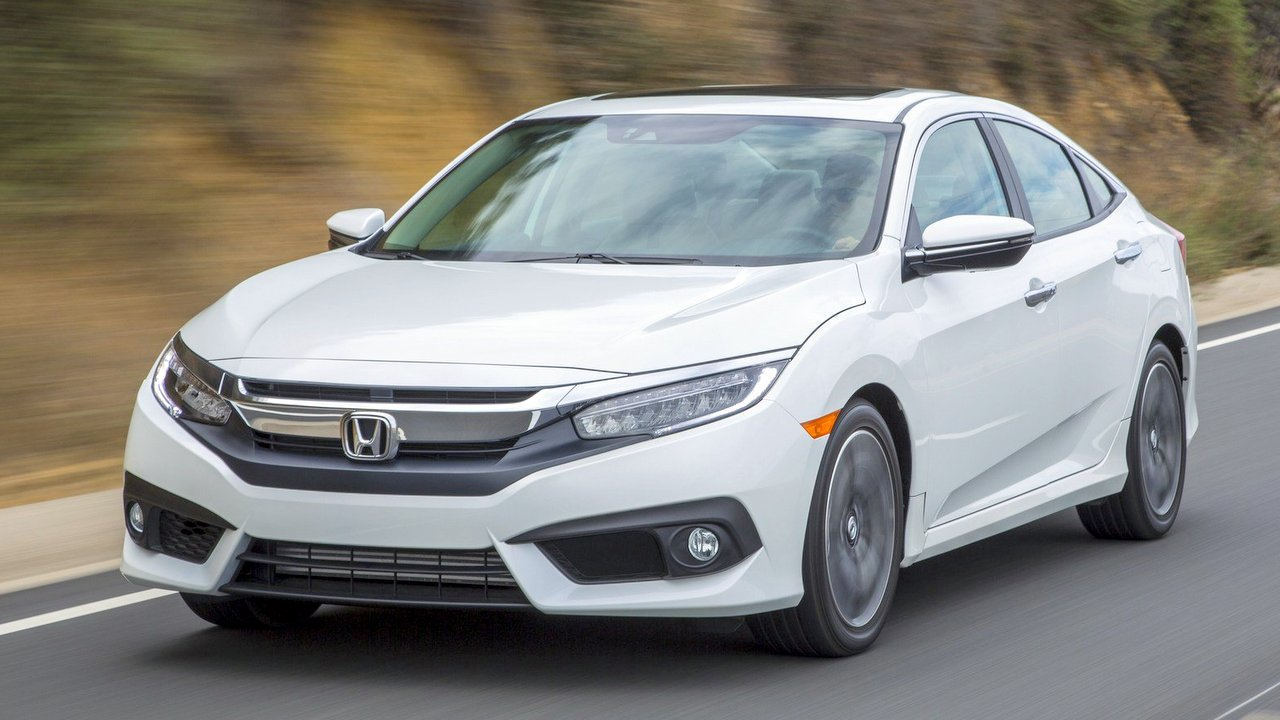car: (120, 70, 1207, 666)
